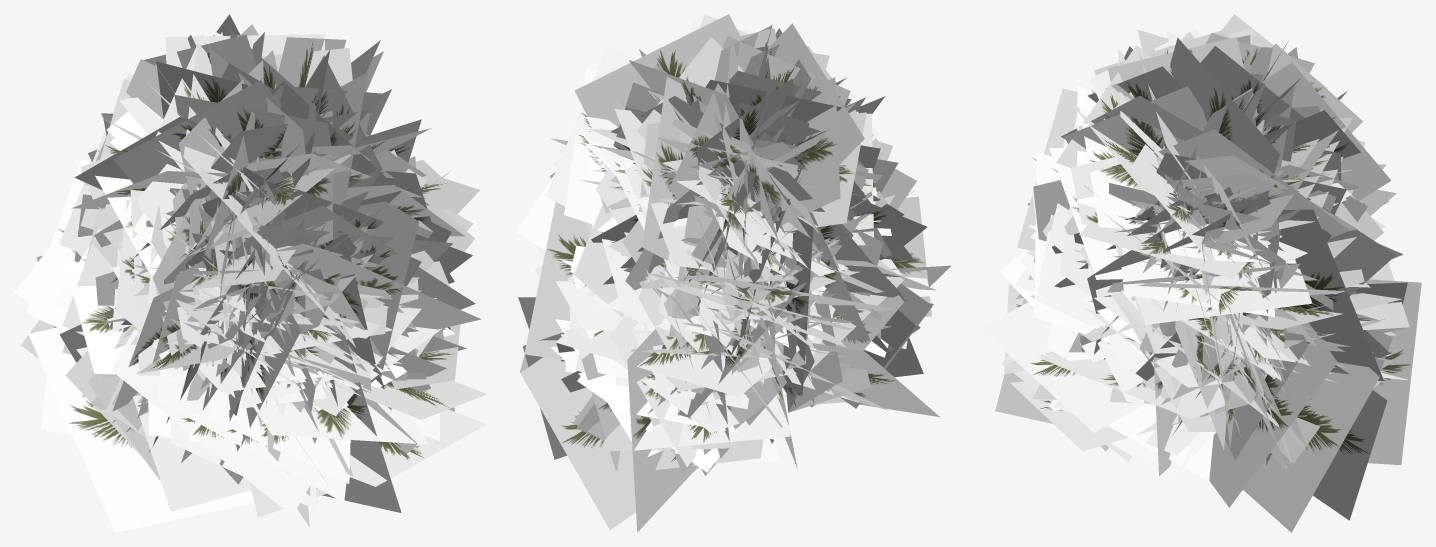
The model's file is smallBush.fbx.
3 views of the same model, side by side, from view 1: azimuth 30°, elevation 25°; view 2: azimuth 150°, elevation 25°; view 3: azimuth 270°, elevation 25° (orthographic). The views are drawn at different scales.
Parts seen in each view (by area): view 1: smallBush; view 2: smallBush; view 3: smallBush.
Boxes of the visible parts, x1=… form: smallBush: x1=14, y1=14, x2=487, y2=532; smallBush: x1=516, y1=14, x2=951, y2=532; smallBush: x1=980, y1=14, x2=1421, y2=532.
Size of what is drawn, in the model's own units: 1389 by 1671 by 1433.
